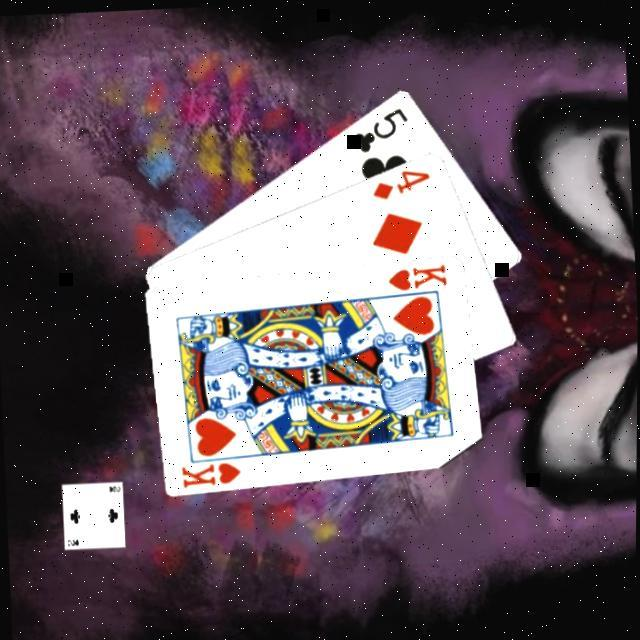4D: (367, 166, 433, 204)
5C: (346, 104, 412, 157)
KH: (176, 459, 244, 492), (384, 262, 448, 295)
